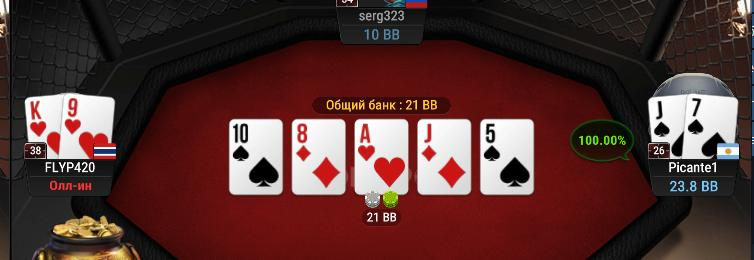10s: (229, 121, 282, 194)
5s: (481, 120, 534, 194)
7s: (685, 93, 738, 160)
8d: (292, 120, 344, 193)
9h: (62, 93, 113, 158)
Ah: (355, 119, 408, 194)
Jd: (417, 119, 471, 195)
Js: (649, 94, 686, 162)
Kh: (25, 96, 62, 158)
